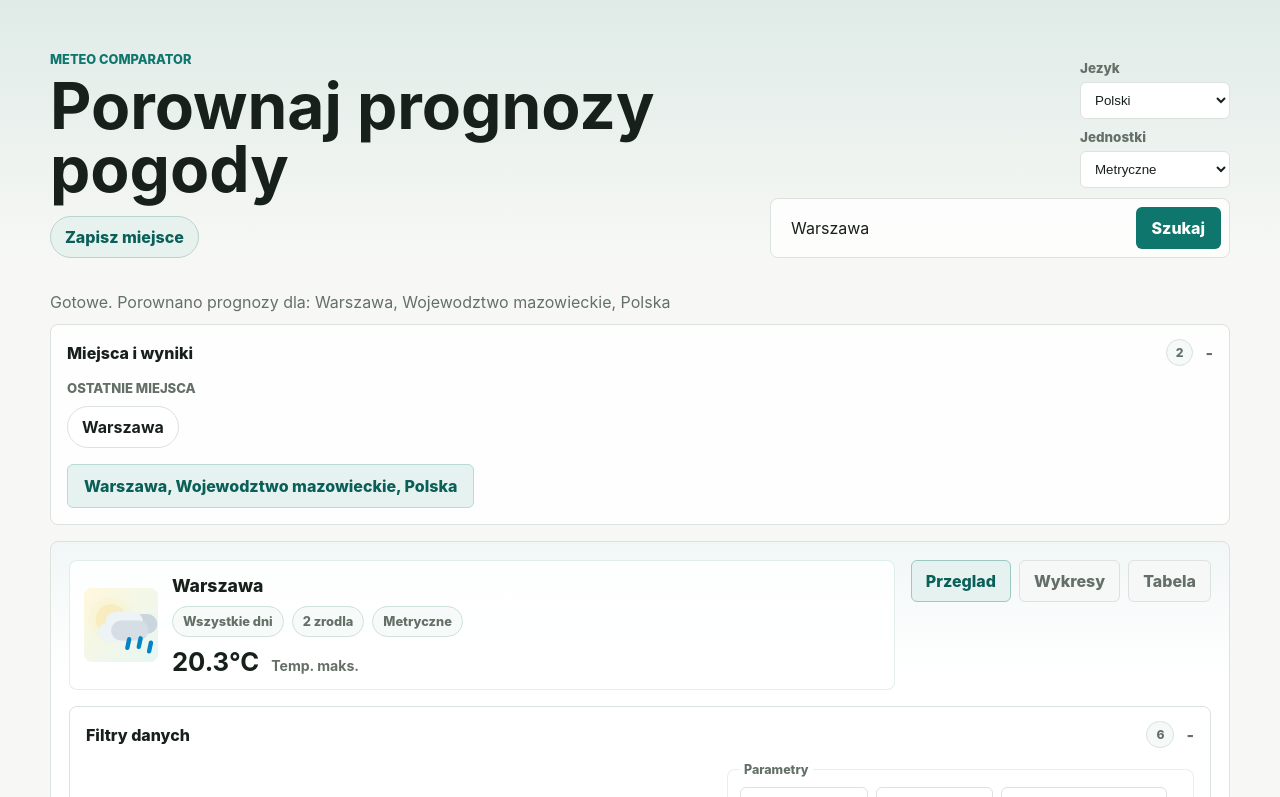
Test: App › switches visible labels to English
Select "English" in the dropdown labelled "Jezyk": (1155, 101) [1080,82,1230,119]
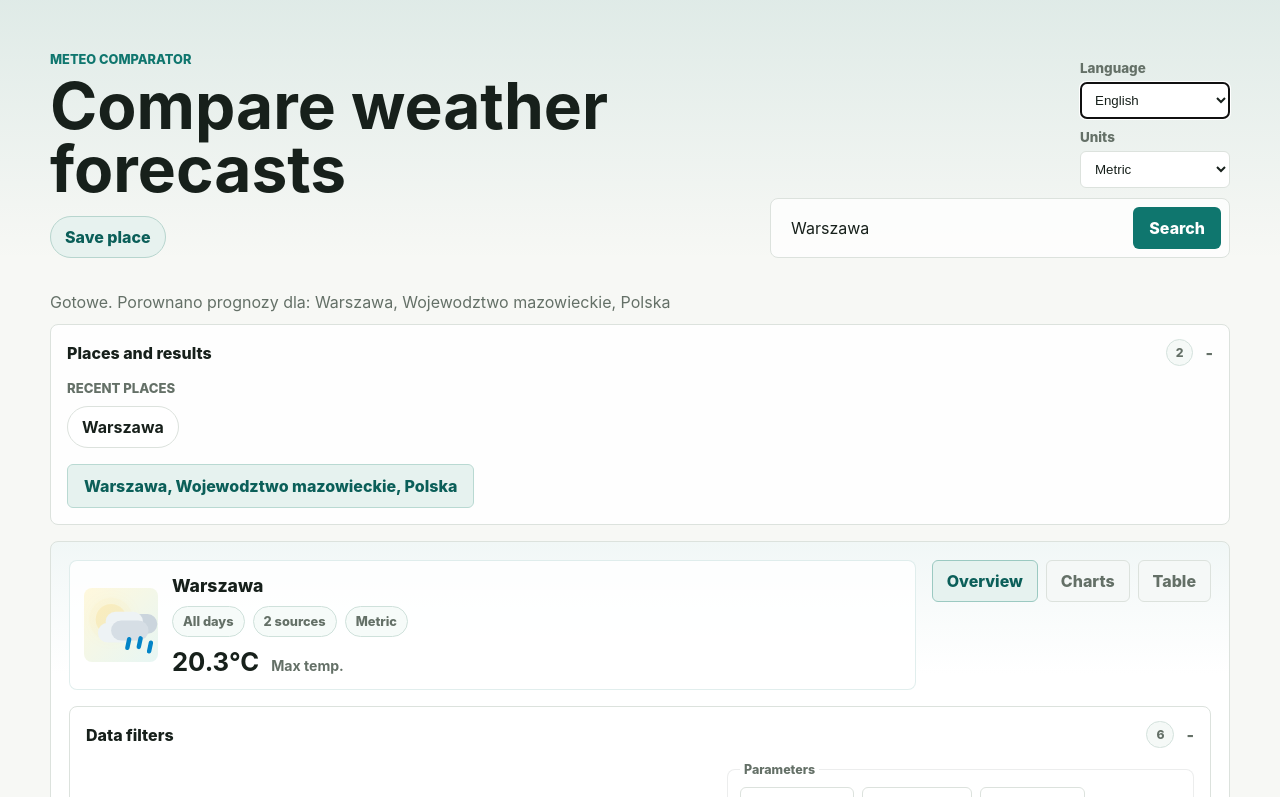
Expected: the heading "Compare weather forecasts" is shown, [50,67,608,207]
Expected: the button "Search" is shown, [1133,207,1221,249]
Expected: the text "2 sources" is shown, [253,606,337,637]
